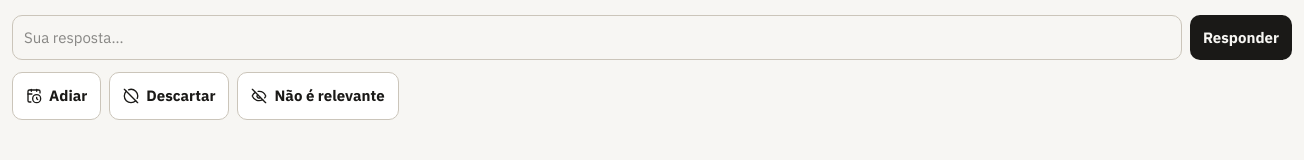
Scenario: QuestionAnswerForm › submits the answer with a preserved operation key and shows the undo control on success
Type "Sexta às 14h" into the field labelled "resposta" at (597, 38), box left=12, top=15, right=1182, bottom=60
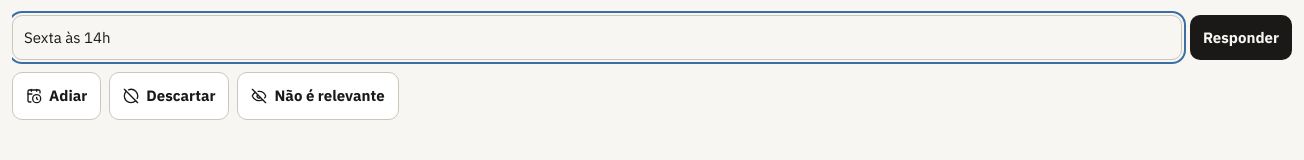
Click the button "Responder" at (1241, 38), box left=1190, top=15, right=1292, bottom=60
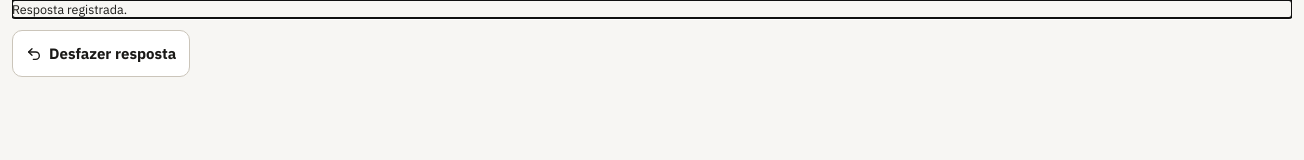
Expected: the message reads "Resposta registrada.", left=12, top=1, right=127, bottom=17
Expected: the button "Desfazer resposta" is shown, left=12, top=30, right=190, bottom=77
Expected: the field is gone
